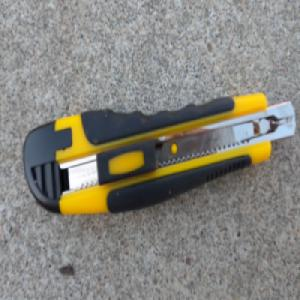Cutter: (22, 89, 297, 216)
